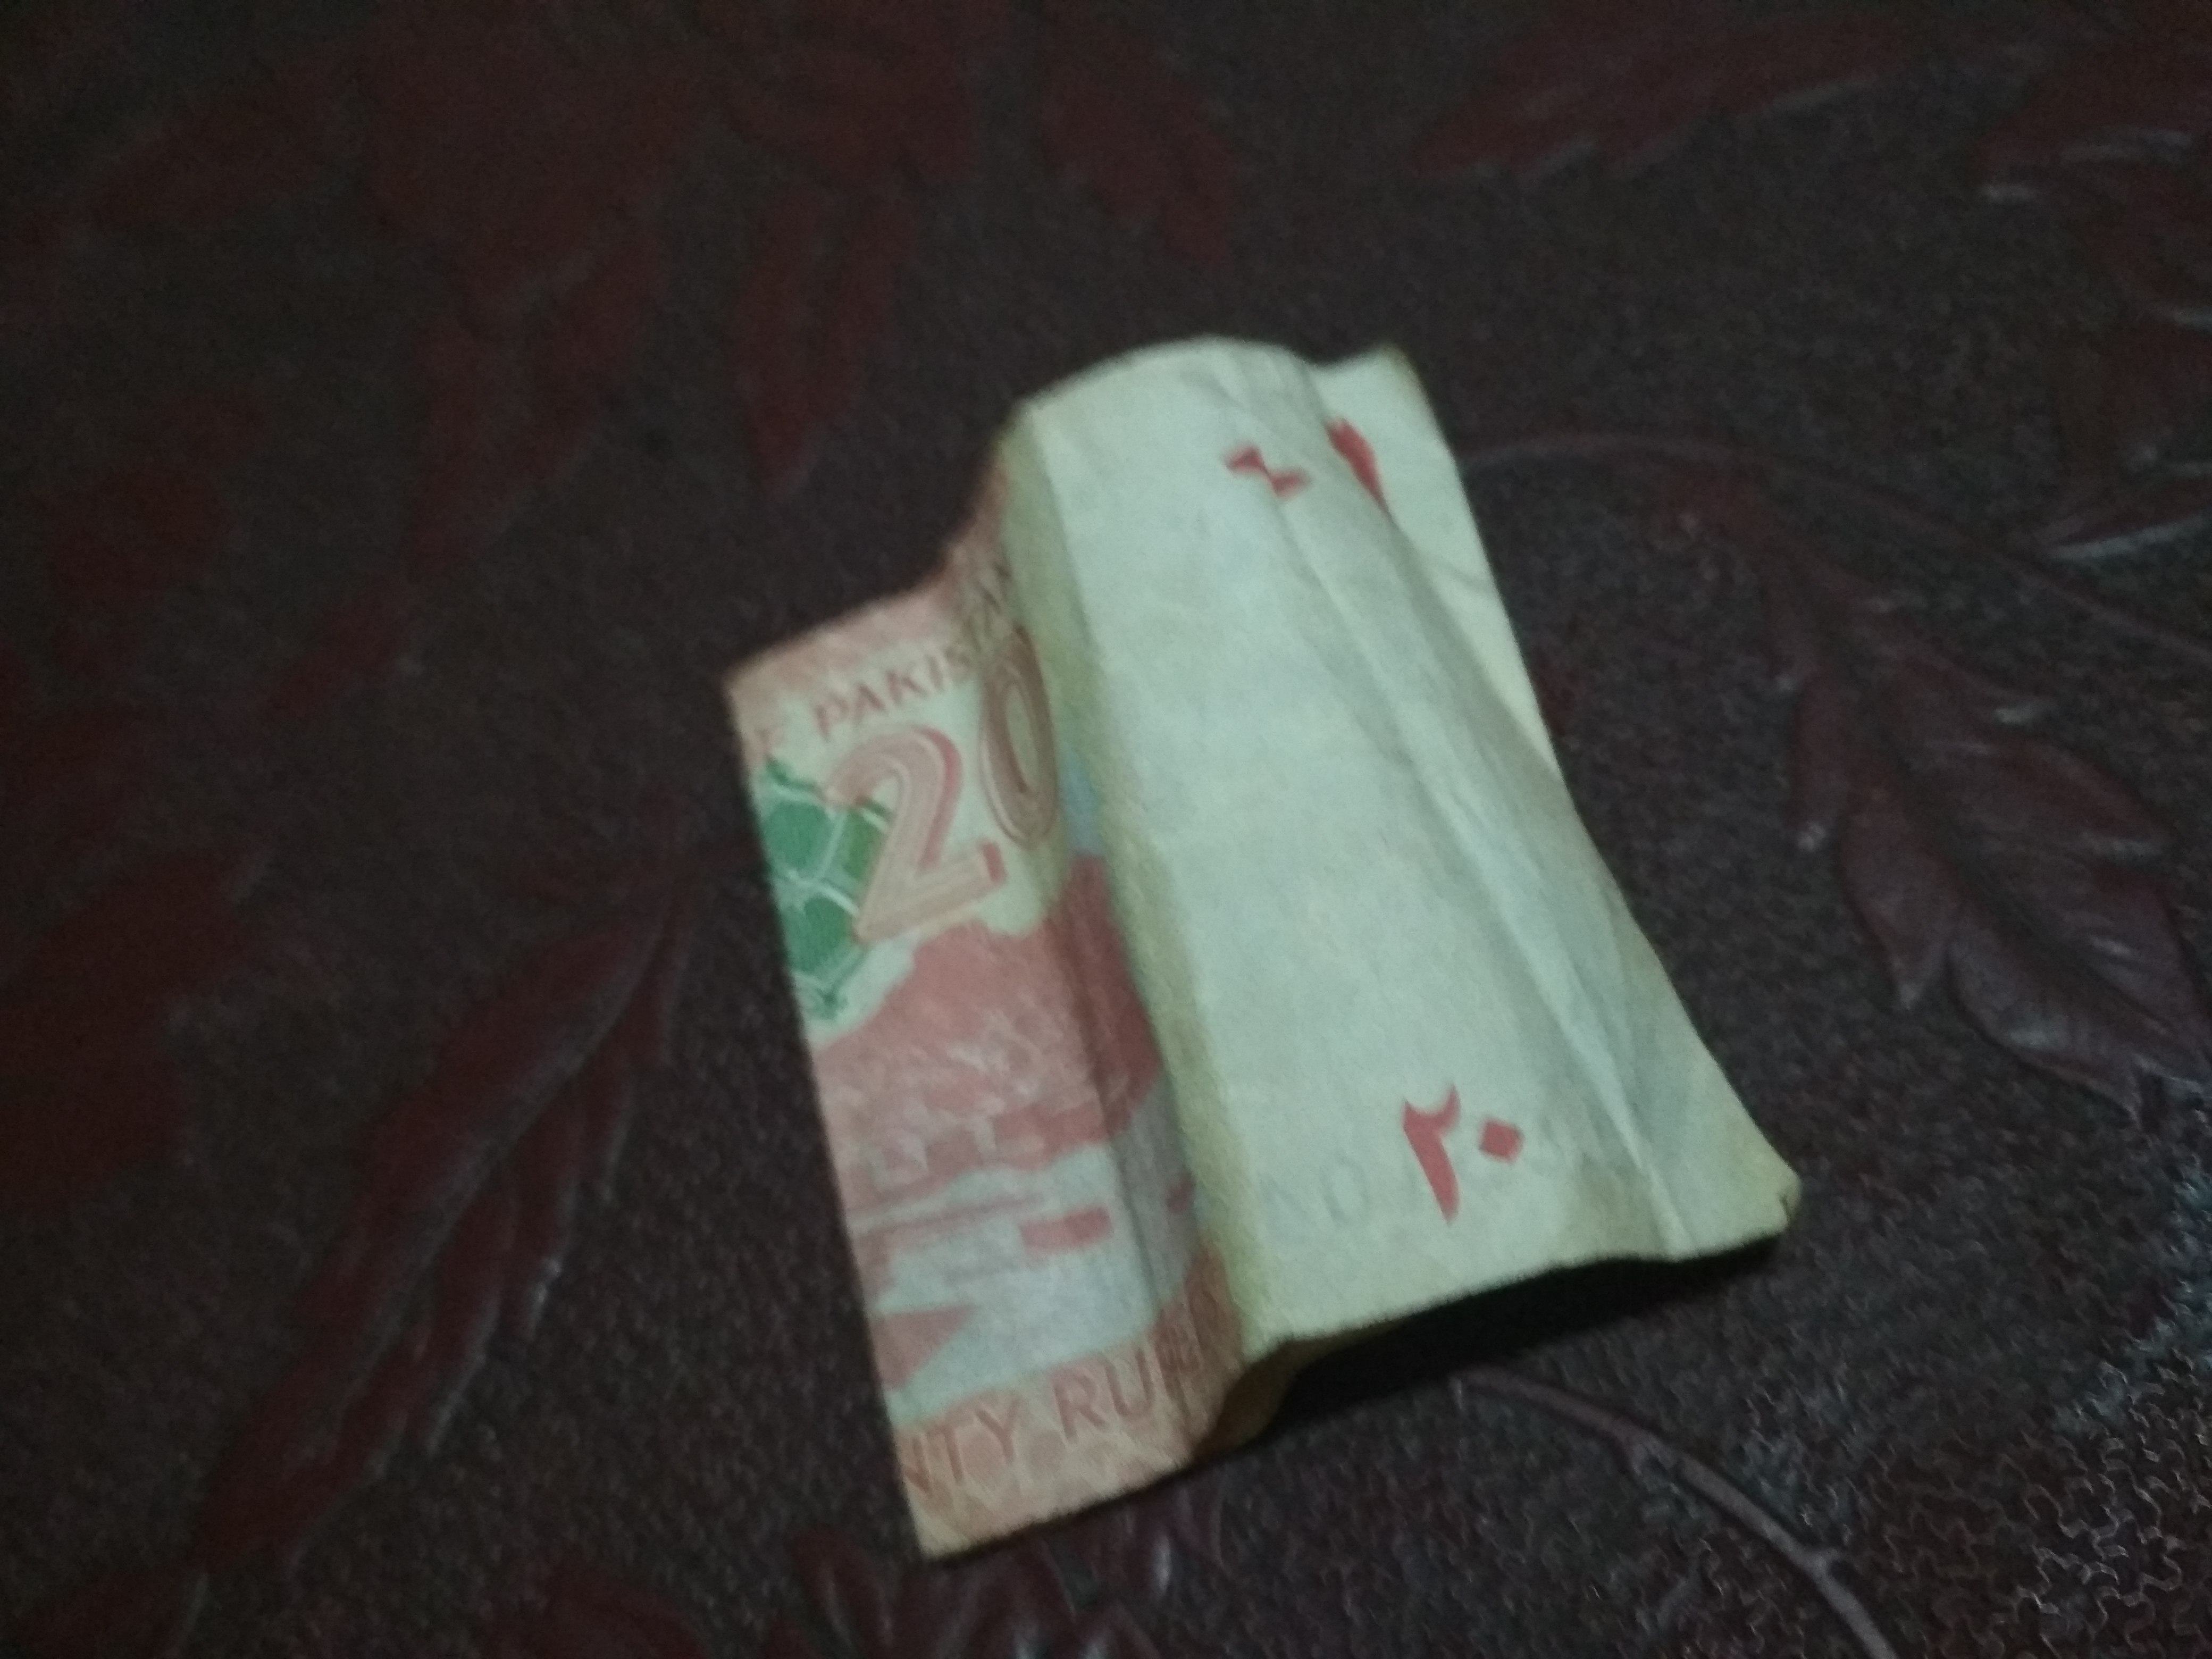20 rupee: (700, 289, 1876, 1577)
